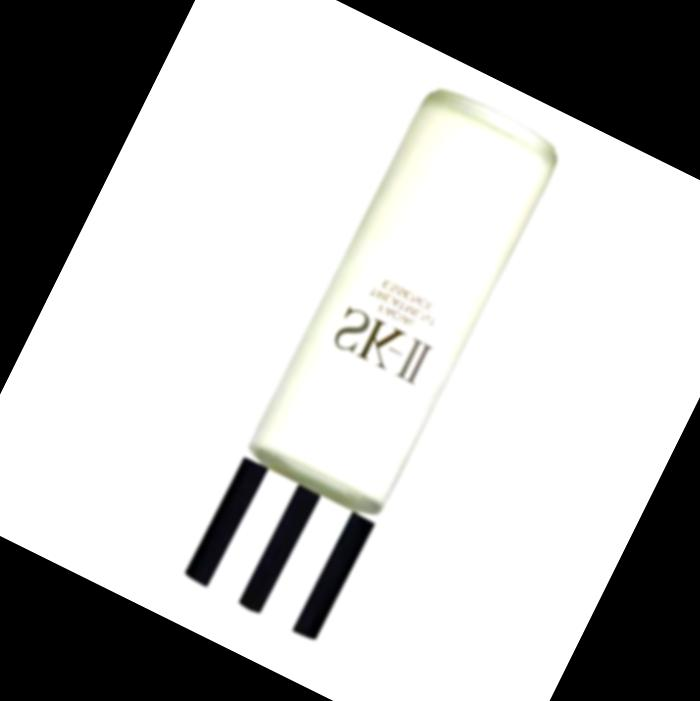cosmetic: (181, 75, 572, 644)
